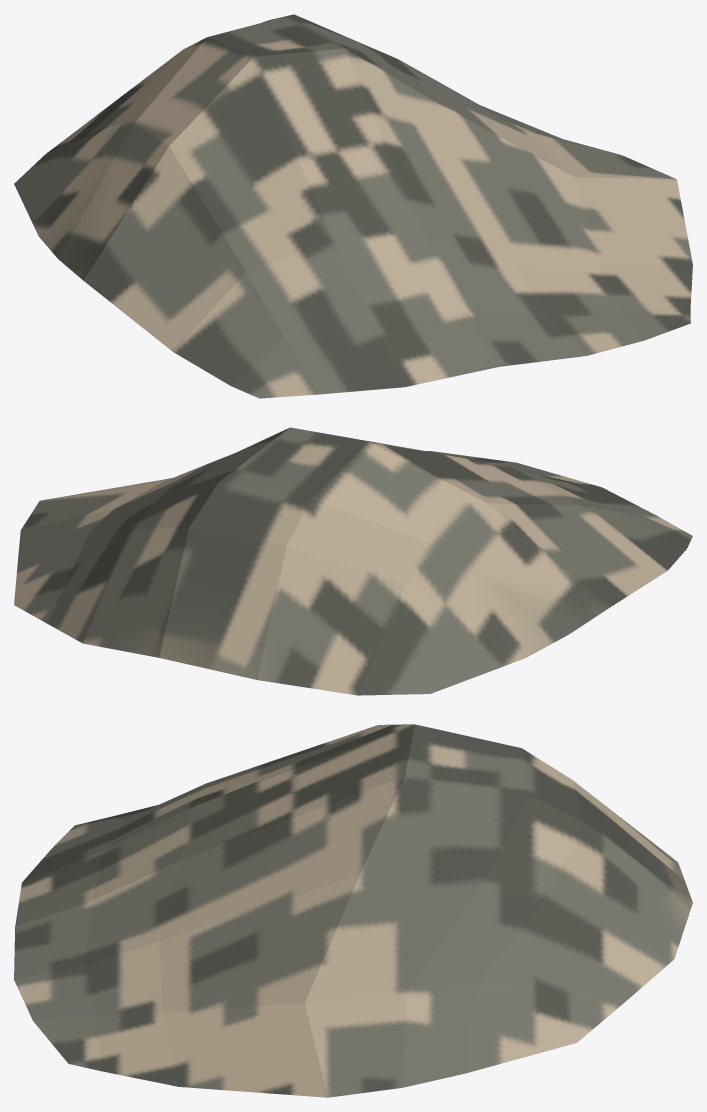
Rendered from SM_Trash_04.fbx.
The picture shows the model from 3 angles, top to bottom: view 1: azimuth 30°, elevation 25°; view 2: azimuth 150°, elevation 25°; view 3: azimuth 270°, elevation 25°; orthographic projection. The views are drawn at different scales.
Parts seen in each view (by area): view 1: SM_Trash_04; view 2: SM_Trash_04; view 3: SM_Trash_04.
Part boxes in pixels (x1=…): SM_Trash_04: x1=14, y1=14, x2=692, y2=398; SM_Trash_04: x1=14, y1=427, x2=692, y2=695; SM_Trash_04: x1=14, y1=724, x2=692, y2=1097.
Size of the model in its own units: 81.51 by 80.61 by 27.32.
Materials: 1 (1 with a texture image).
